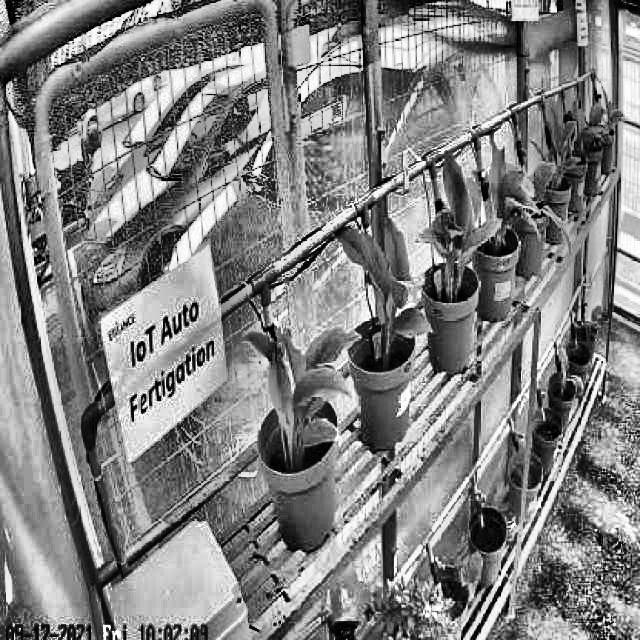plants: (243, 328, 359, 457), (337, 218, 431, 340), (418, 152, 496, 282), (488, 140, 540, 254), (544, 106, 578, 186)
